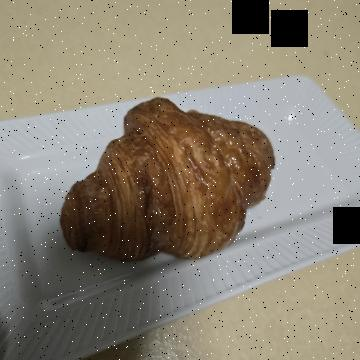croissant: (86, 60, 276, 297)
